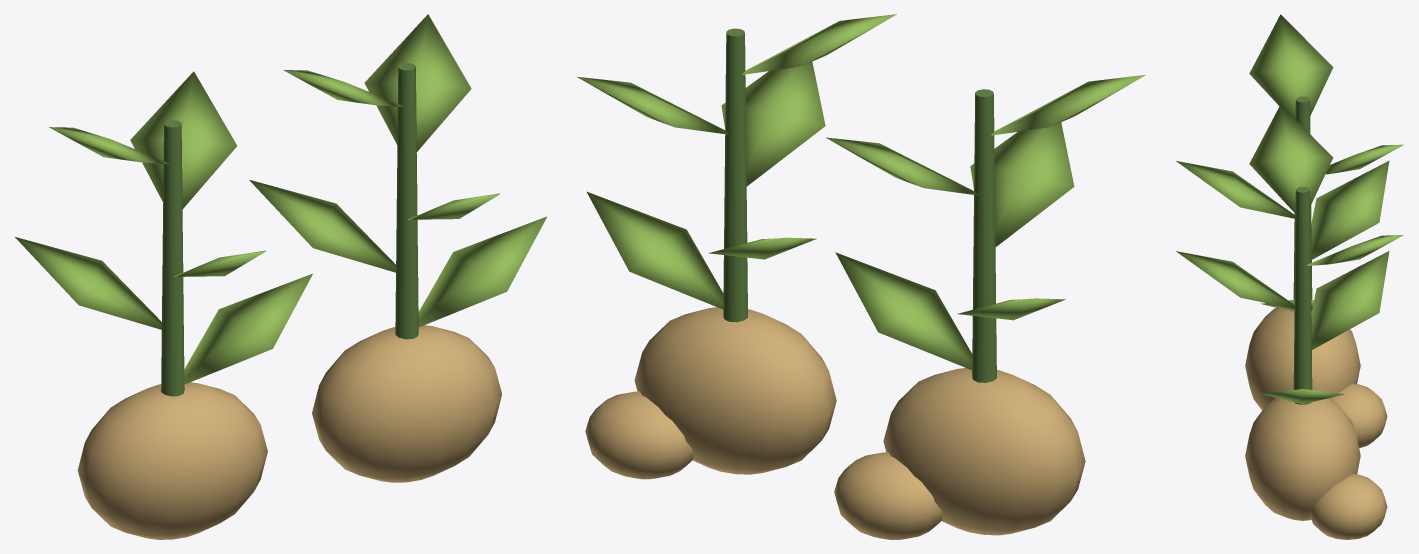
Rendered from crop_3_stage_3.fbx.
The picture shows the model from 3 angles, left to right: view 1: azimuth 30°, elevation 25°; view 2: azimuth 150°, elevation 25°; view 3: azimuth 270°, elevation 25°; orthographic projection. The views are drawn at different scales.
Parts seen in each view (by area): view 1: crop_3_stage_3; view 2: crop_3_stage_3; view 3: crop_3_stage_3.
Boxes of the visible parts, x1=… form: crop_3_stage_3: x1=15, y1=14, x2=547, y2=539; crop_3_stage_3: x1=577, y1=14, x2=1145, y2=539; crop_3_stage_3: x1=1176, y1=14, x2=1403, y2=539.
Size of the model in its own units: 0.5975 by 0.5 by 0.2929.
Materials: 1 (1 with a texture image).
